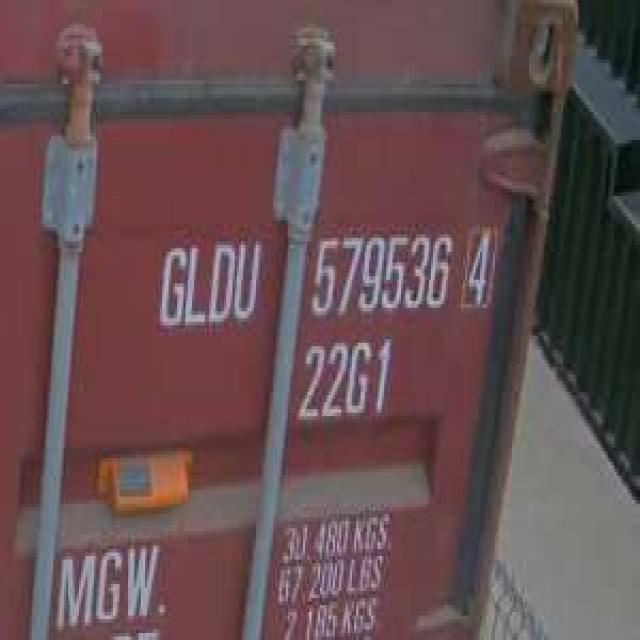dv: (458, 225, 498, 315)
owner: (154, 237, 262, 336)
serial: (308, 227, 456, 323)
size: (294, 333, 397, 423)
